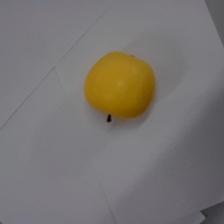yellow: (81, 49, 157, 125)
